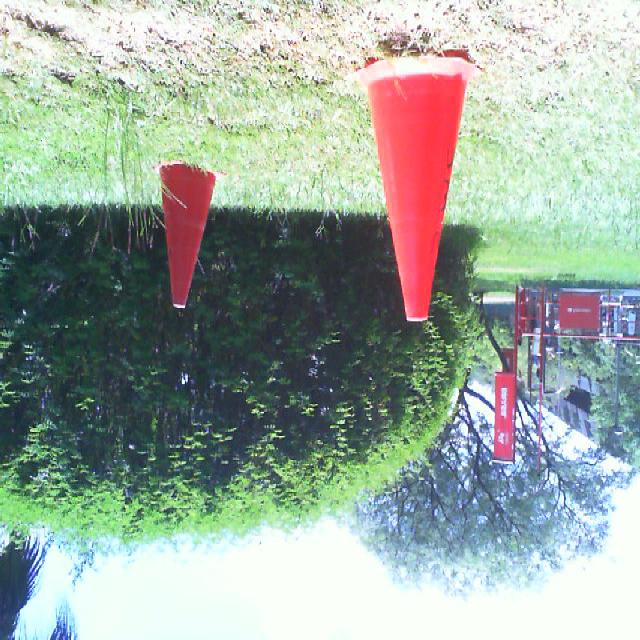cone: (344, 55, 484, 321), (152, 160, 227, 308)
